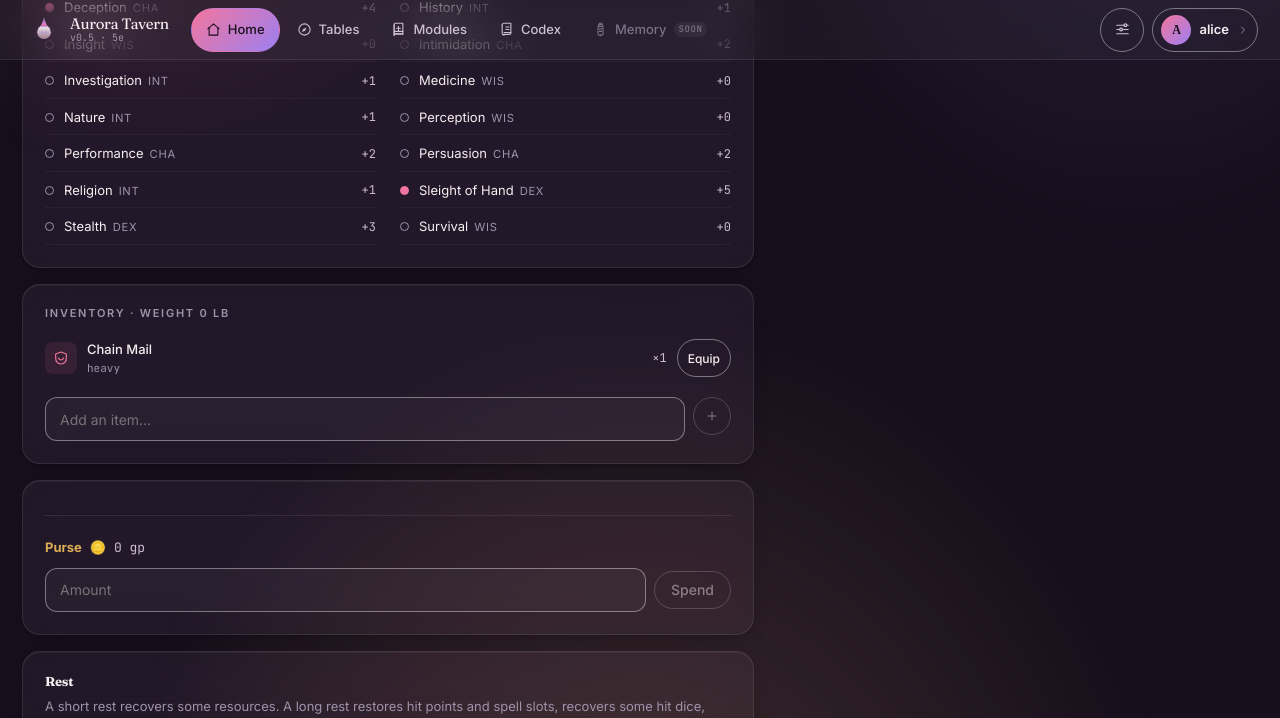
it: Character sheet — T5 inventory: equip recomputes AC live › clicking Equip on an armor item updates the sheet AC without a page reload
(page scrolled)
Step 1. Click the button "Equip" → (704, 358), box [677,339,731,377]
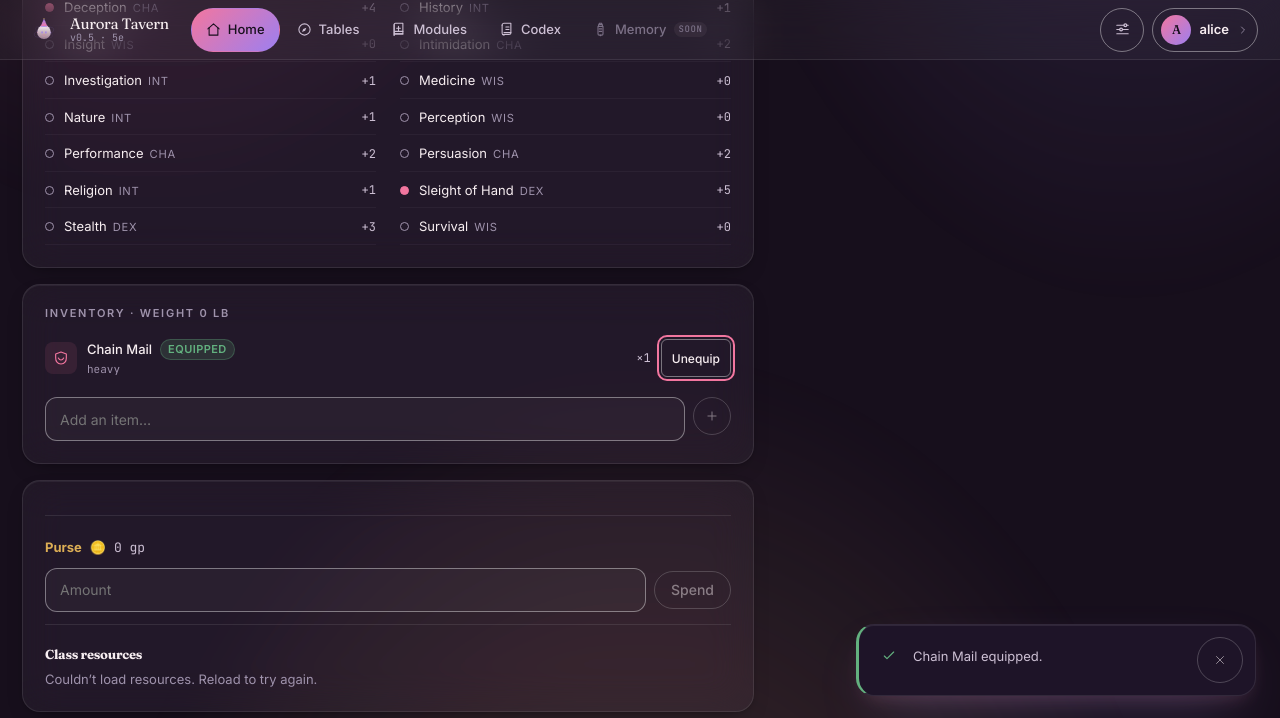
Now the text "equipped" is shown, box [160,339,235,360]
